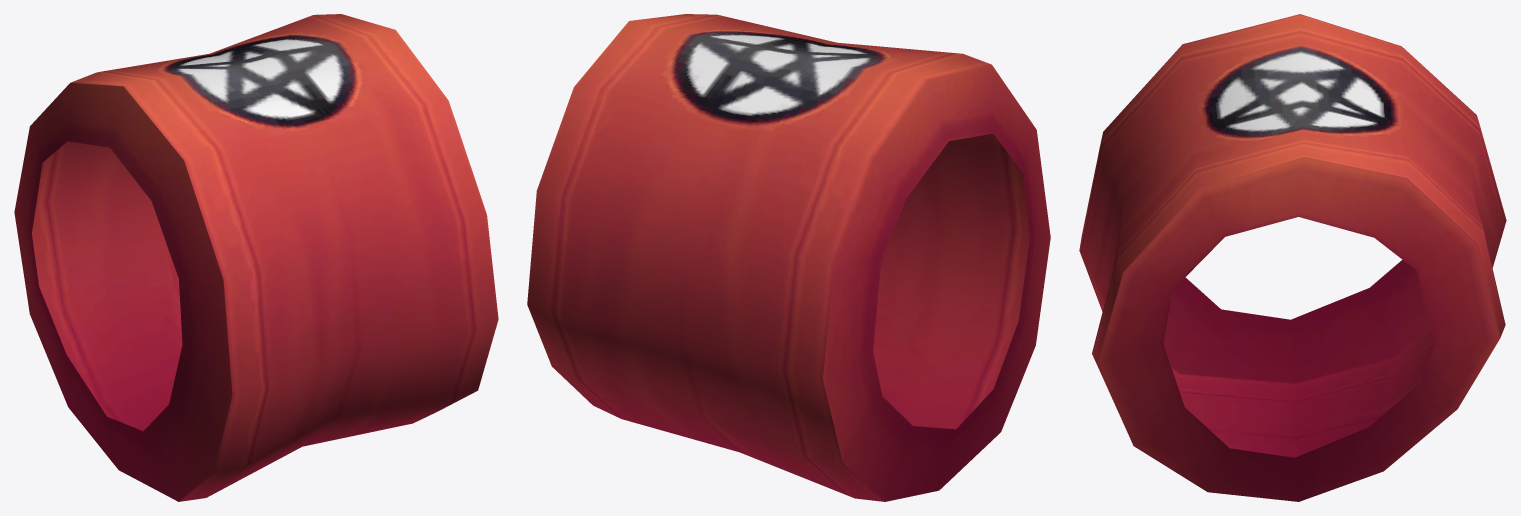
Rendered from OkaArmband.fbx.
The picture shows the model from 3 angles, left to right: view 1: azimuth 30°, elevation 25°; view 2: azimuth 150°, elevation 25°; view 3: azimuth 270°, elevation 25°; orthographic projection. The views are drawn at different scales.
Parts seen in each view (by area): view 1: Armband; view 2: Armband; view 3: Armband.
Boxes of the visible parts, x1=… form: Armband: x1=14, y1=14, x2=498, y2=501; Armband: x1=527, y1=14, x2=1050, y2=501; Armband: x1=1079, y1=14, x2=1506, y2=501.
Size of the model in its own units: 10.31 by 12.2 by 12.55.
